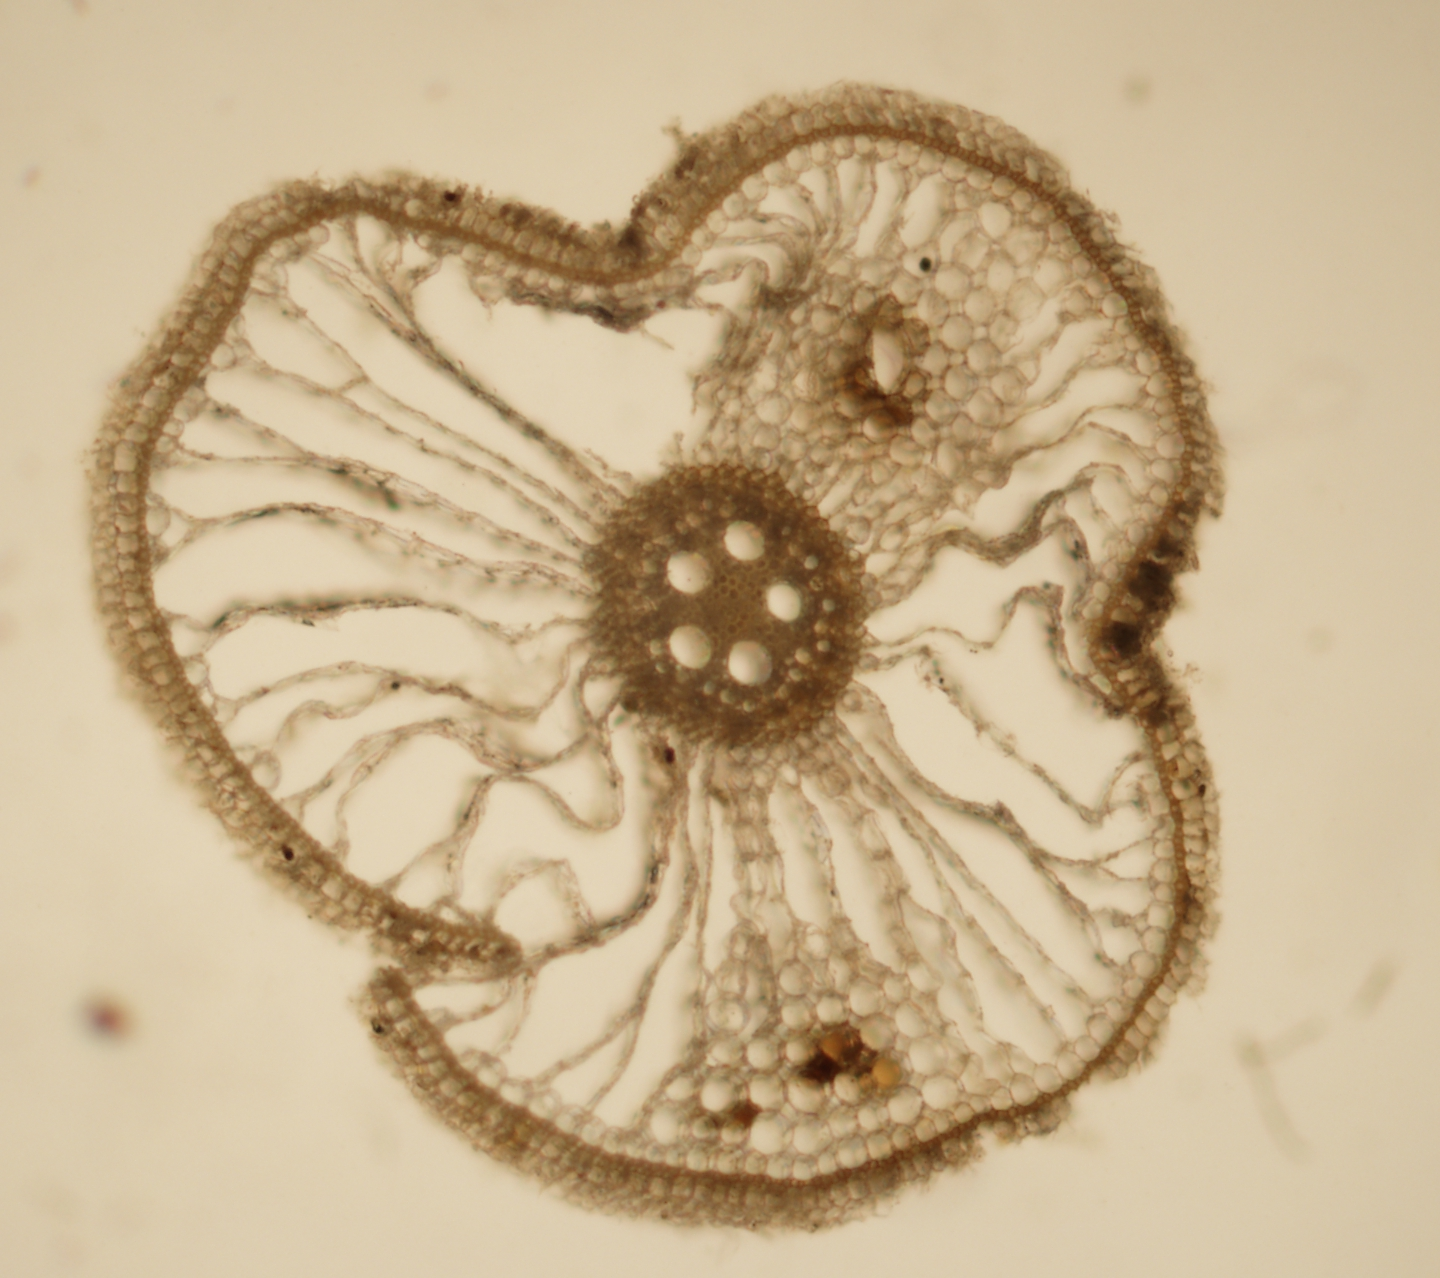lm: (668, 548, 714, 593), (668, 623, 712, 669), (728, 639, 772, 685), (723, 521, 765, 560), (765, 582, 802, 622)
